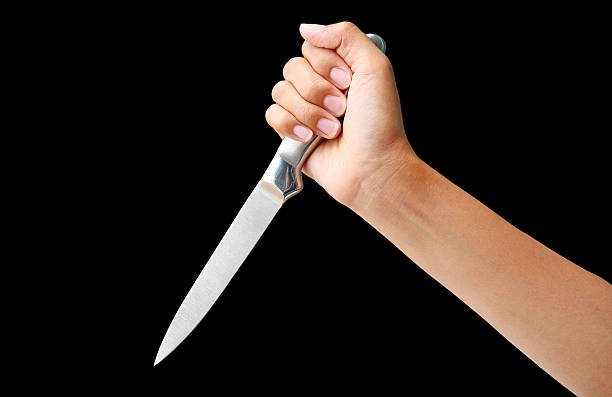knife: (151, 132, 324, 368)
